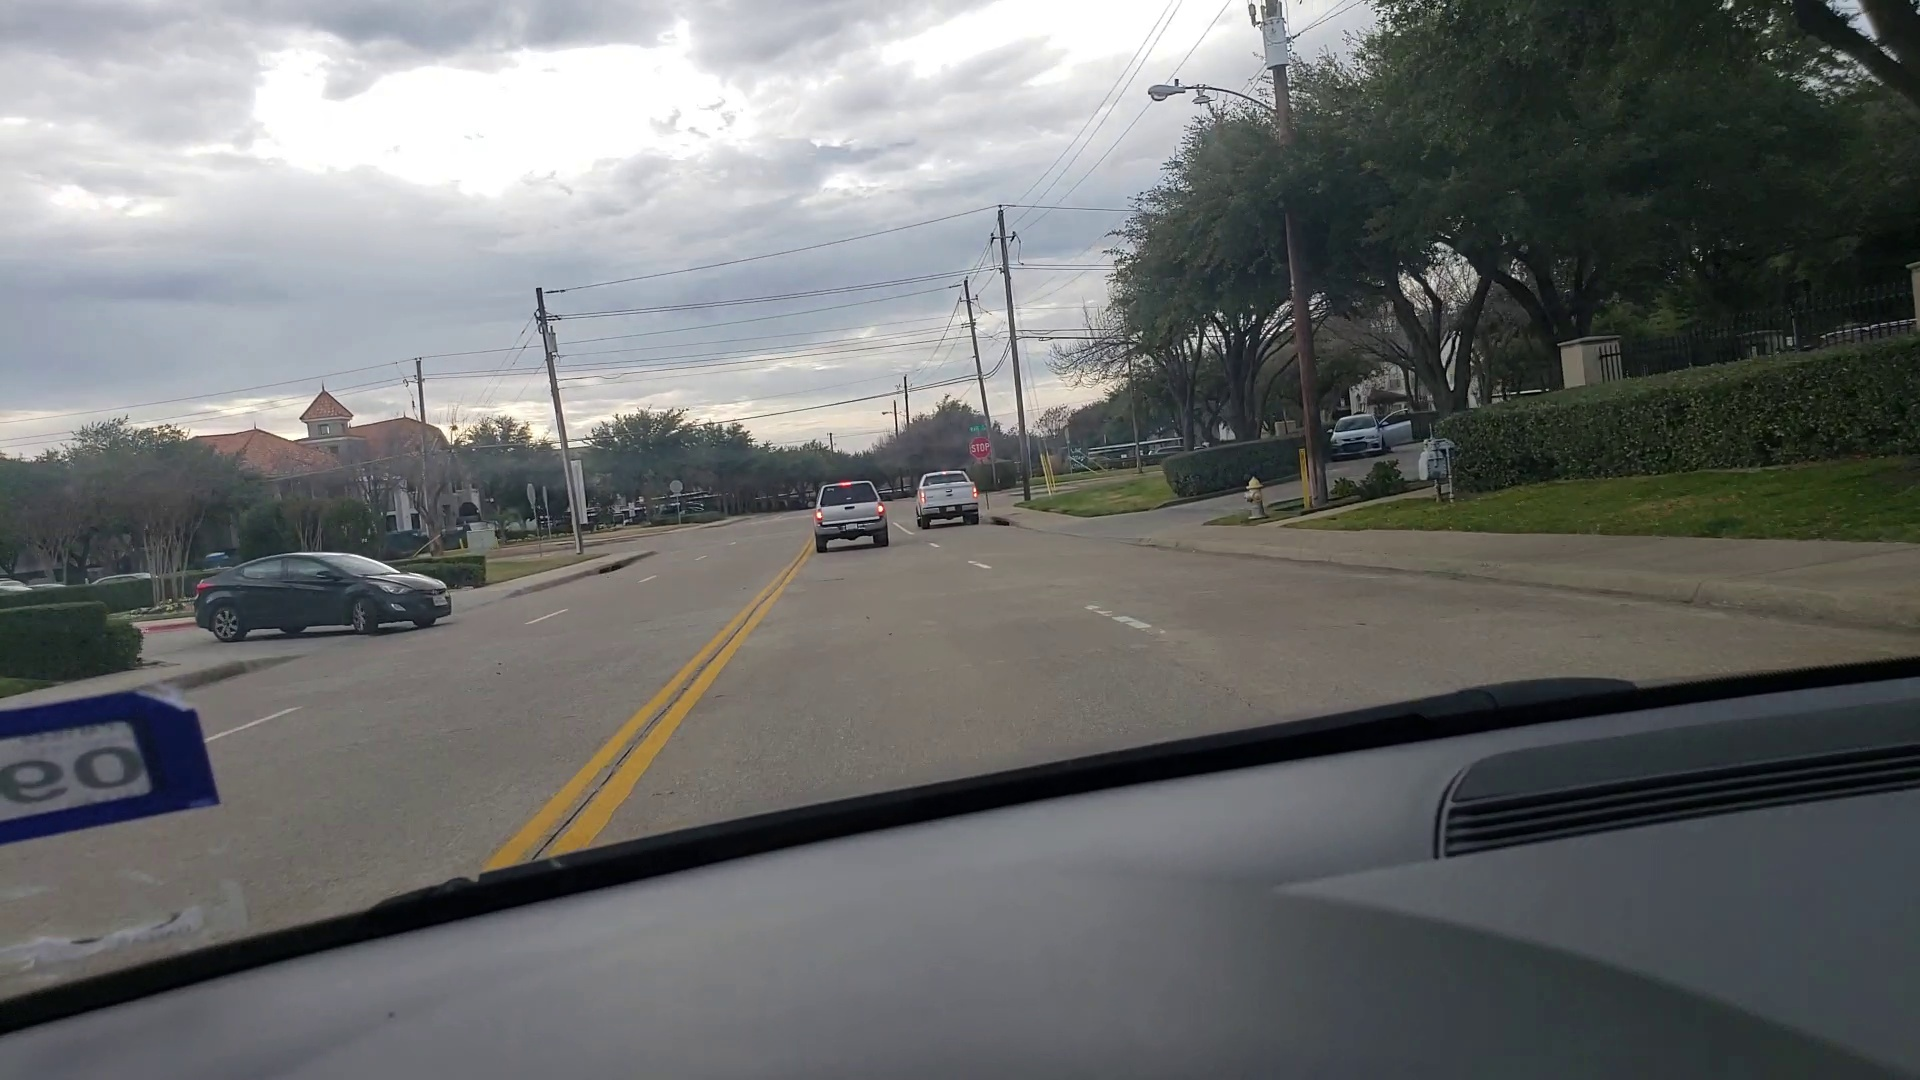car: (193, 555, 452, 638), (1333, 415, 1419, 452)
stop sign: (969, 438, 994, 462)
truck: (806, 480, 890, 551), (913, 473, 982, 530)
